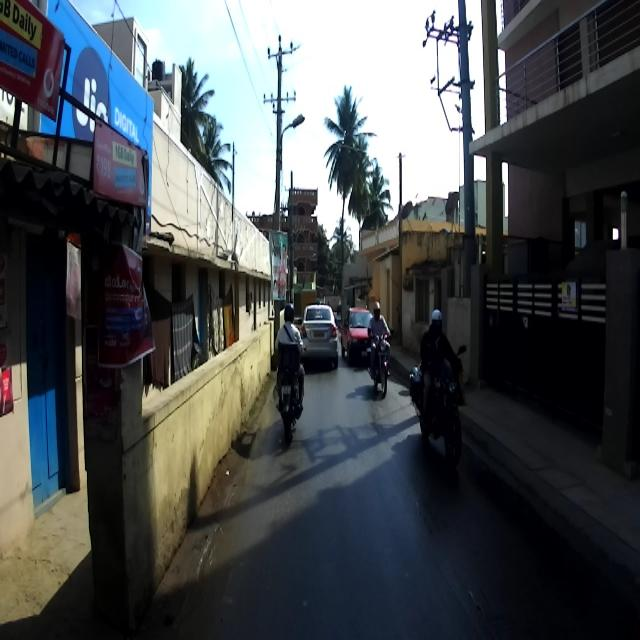car: (298, 302, 339, 368), (340, 306, 380, 368)
motorcycle: (408, 344, 466, 464), (276, 345, 306, 445), (366, 327, 394, 397)
